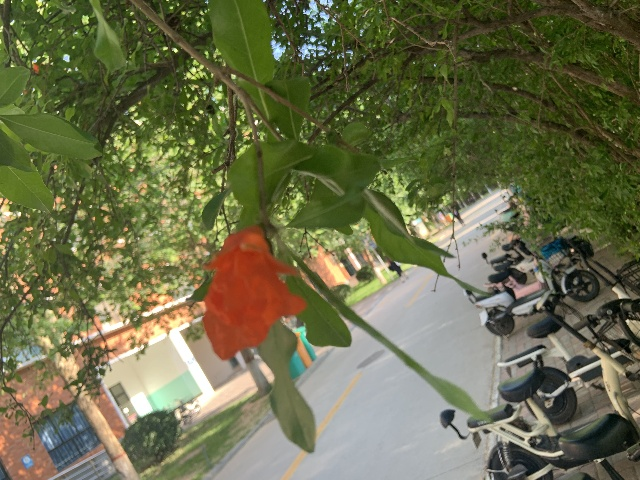flower: (202, 225, 306, 360)
